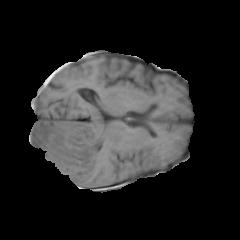glioma: (30, 121, 105, 183)
